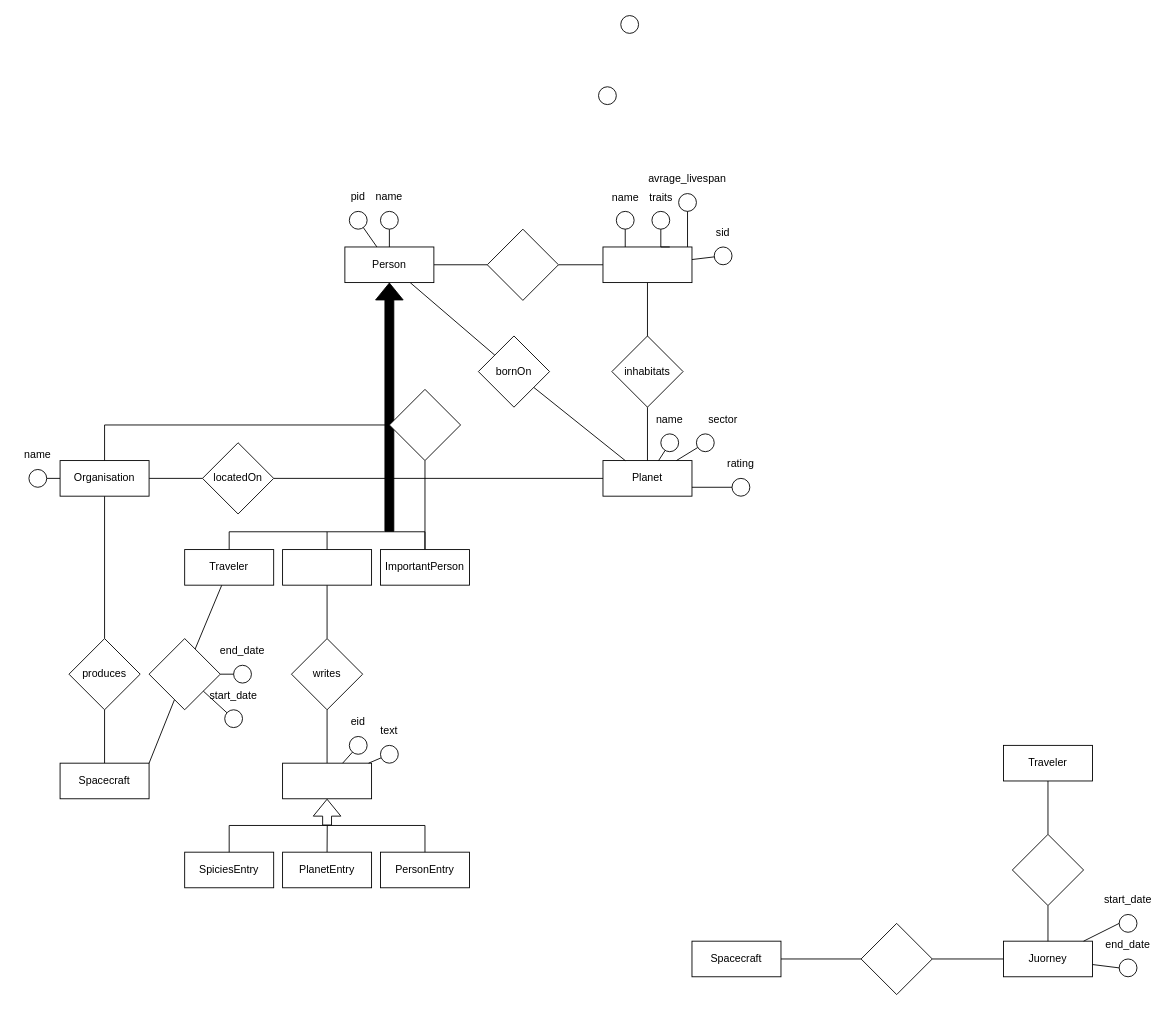
The diagram is 1168 pixels wide and 1010 high, and some of its shapes have lost their labels. The centre of each missing label's shape, as x and y in pixels:
"Author" goes at (x=327, y=567).
"belongsTo" goes at (x=522, y=264).
"Entry" goes at (x=327, y=780).
"goesOn" goes at (x=1047, y=869).
"leads" goes at (x=424, y=424).
"Species" goes at (x=647, y=264).
"usedIn" goes at (x=896, y=958).
"uses" goes at (x=184, y=674).
